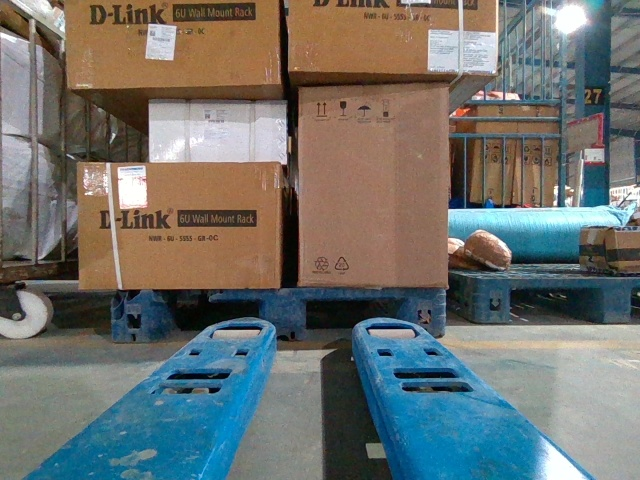block: (259, 289, 307, 344), (110, 287, 159, 340), (404, 286, 445, 339), (473, 277, 508, 321), (604, 275, 631, 328)
front: (114, 288, 445, 339)
hole pallet: (300, 292, 407, 340), (156, 292, 260, 338), (507, 281, 604, 323)
